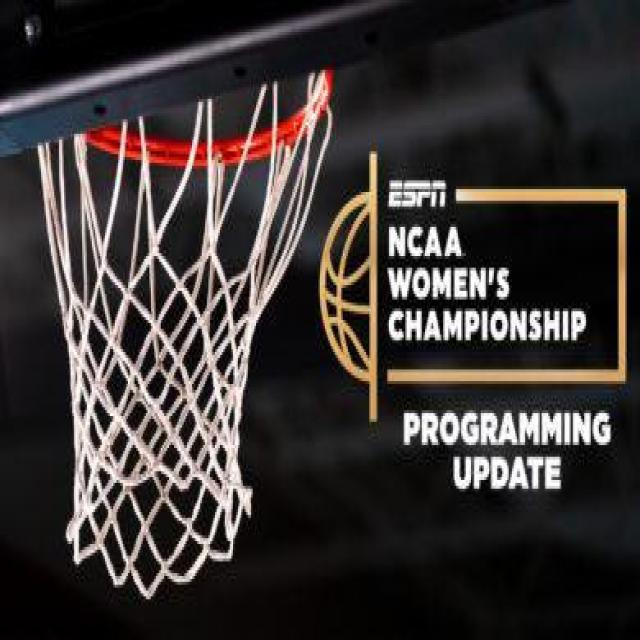hoop: (39, 64, 333, 601)
